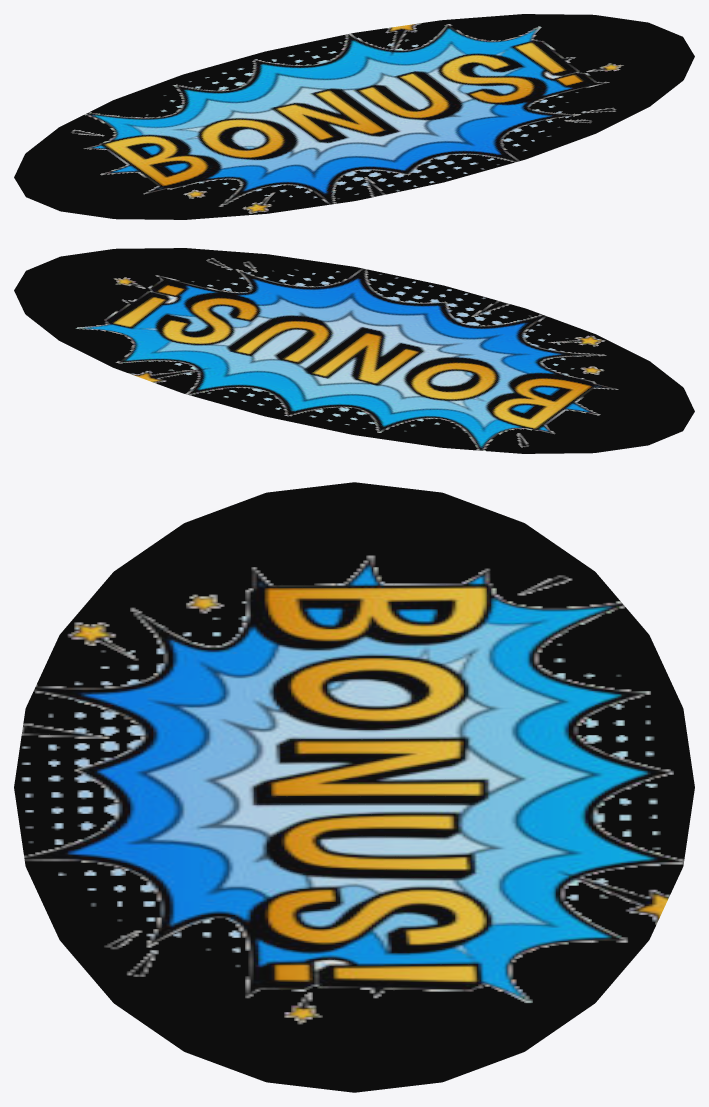
File: bonus.obj
The picture shows the model from 3 angles, top to bottom: view 1: azimuth 30°, elevation 25°; view 2: azimuth 150°, elevation 25°; view 3: azimuth 270°, elevation 25°; orthographic projection. The views are drawn at different scales.
Visible parts, largest first — view 1: pDisc1; view 2: pDisc1; view 3: pDisc1.
Boxes of the visible parts, x1,y1,x2,y2 form: pDisc1: (14, 14, 694, 219); pDisc1: (14, 248, 694, 453); pDisc1: (14, 482, 694, 1092).
Size of the model in its own units: 1.66 by 0 by 0.7826.
1 material, 1 textured.
